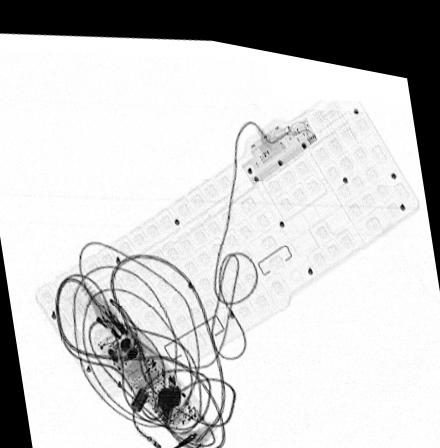Lighter: (156, 377, 181, 402)
